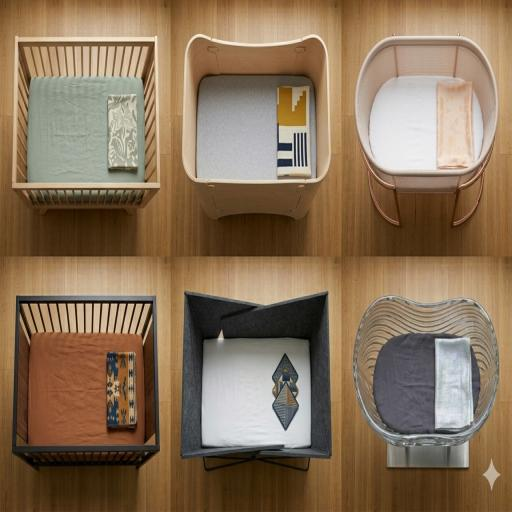crib: (183, 34, 330, 219), (355, 36, 498, 225), (181, 292, 331, 471), (12, 37, 159, 213), (12, 296, 159, 468), (353, 296, 498, 466)
